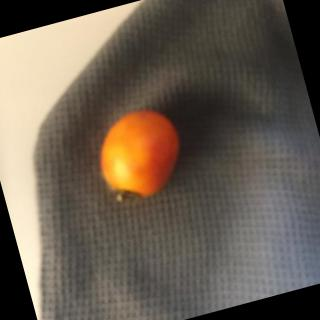Tomat: (76, 97, 203, 227)
